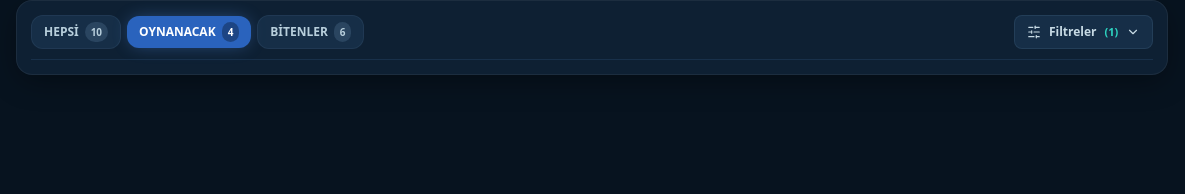
Scenario: Erişilebilirlik (a11y) Standartları (GÖREV 3) › FilterBar a11y › durum ve lig sekmelerinde role=tablist ve role=tab bulunur, arama inputunda aria-label vardır
Expected: the element named "Maç durum sekmeleri" is shown, [31,15,364,49]
Expected: the field labelled "Kulüp veya salon ara" is not shown
Click the button "Filtreler (1)". click: [1083, 32]
box: [1014,15,1153,49]
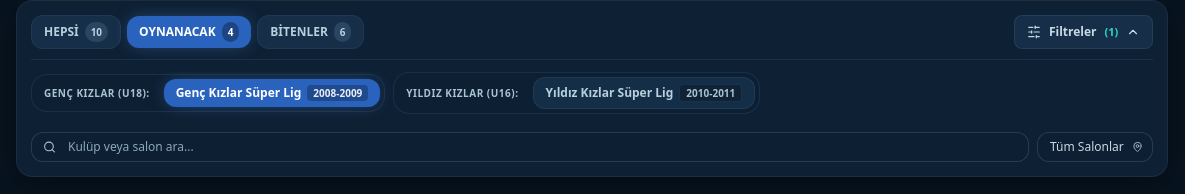
Expected: the button "Filtreler (1)" is expanded, [1014,15,1153,49]
Expected: the element named "Lig filtreleri" is shown, [31,72,760,114]
Expected: the field labelled "Kulüp veya salon ara" is shown, [31,132,1029,162]
